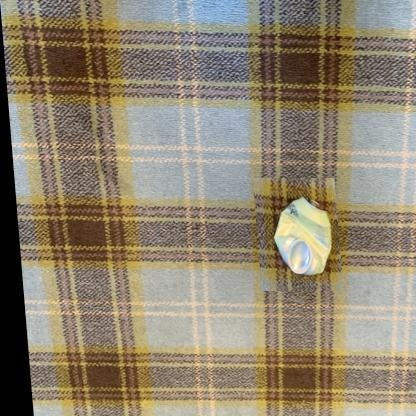trash: (274, 197, 331, 274)
